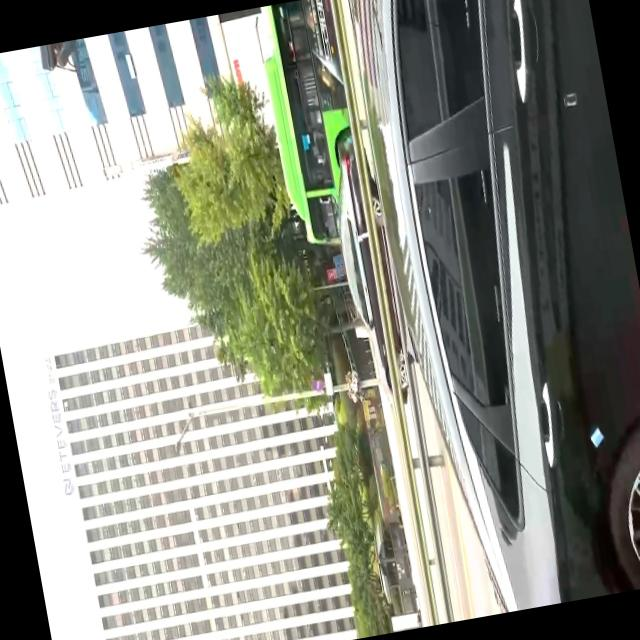building: (51, 298, 391, 640), (0, 5, 293, 211)
car: (340, 0, 640, 621), (248, 0, 384, 274), (322, 138, 416, 412)
